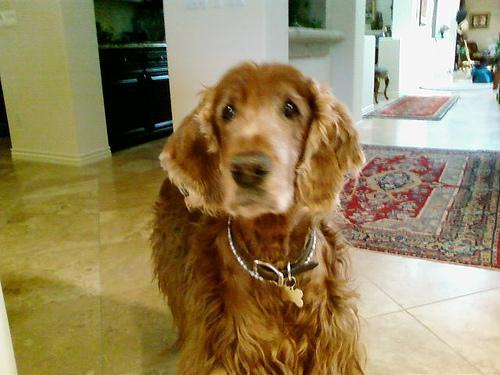Irish_setter: (150, 58, 372, 374)
